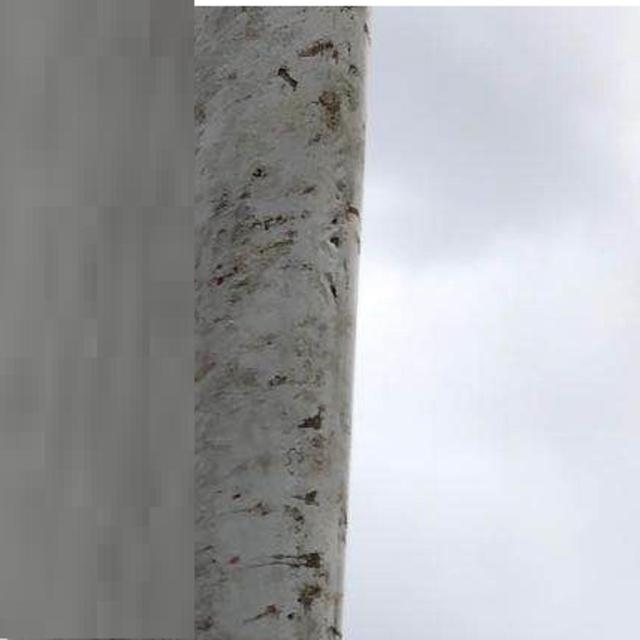corrosion: (198, 4, 356, 626)
